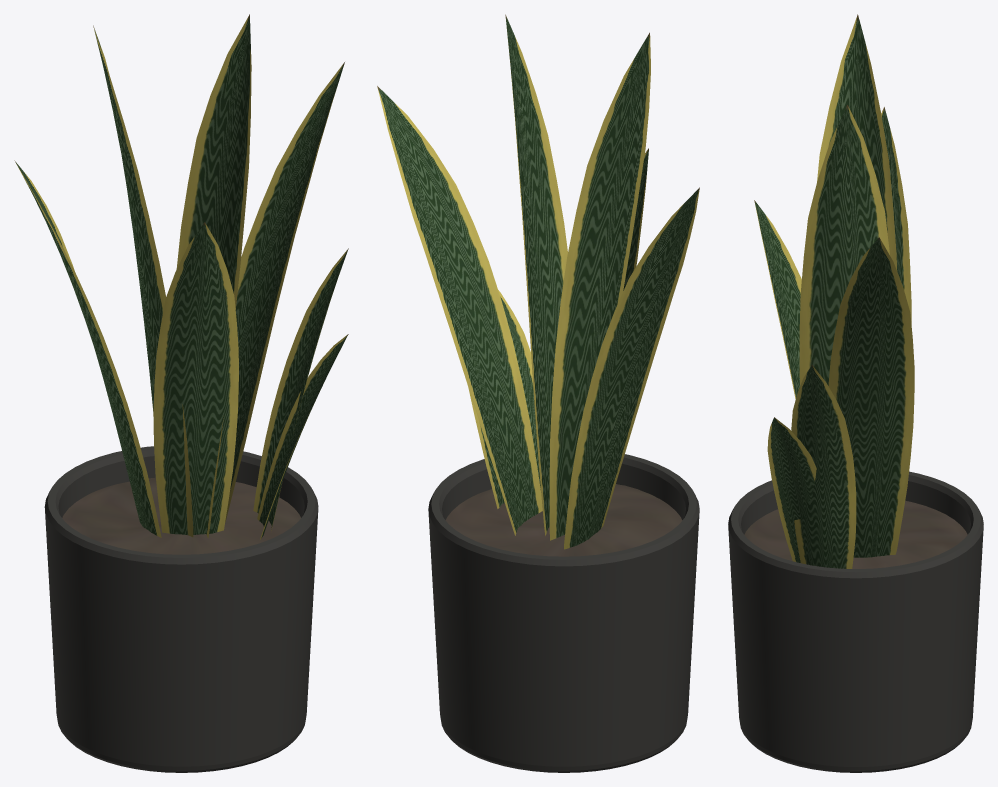
The picture shows the model from 3 angles, left to right: view 1: azimuth 30°, elevation 25°; view 2: azimuth 150°, elevation 25°; view 3: azimuth 270°, elevation 25°; orthographic projection. The views are drawn at different scales.
Parts seen in each view (by area): view 1: leaves, pot, soil; view 2: leaves, pot, soil; view 3: leaves, pot, soil.
Boxes of the visible parts, box(x1,y1,x2,y2) form: leaves: box(14, 14, 348, 539); pot: box(44, 446, 318, 772); soil: box(62, 477, 300, 554); leaves: box(377, 14, 699, 549); pot: box(428, 454, 699, 772); soil: box(445, 484, 682, 556); leaves: box(754, 14, 914, 568); pot: box(728, 471, 983, 772); soil: box(744, 500, 967, 568).
Size of the model in its own units: 0.194 by 0.4061 by 0.14.
3 materials, 1 textured.
